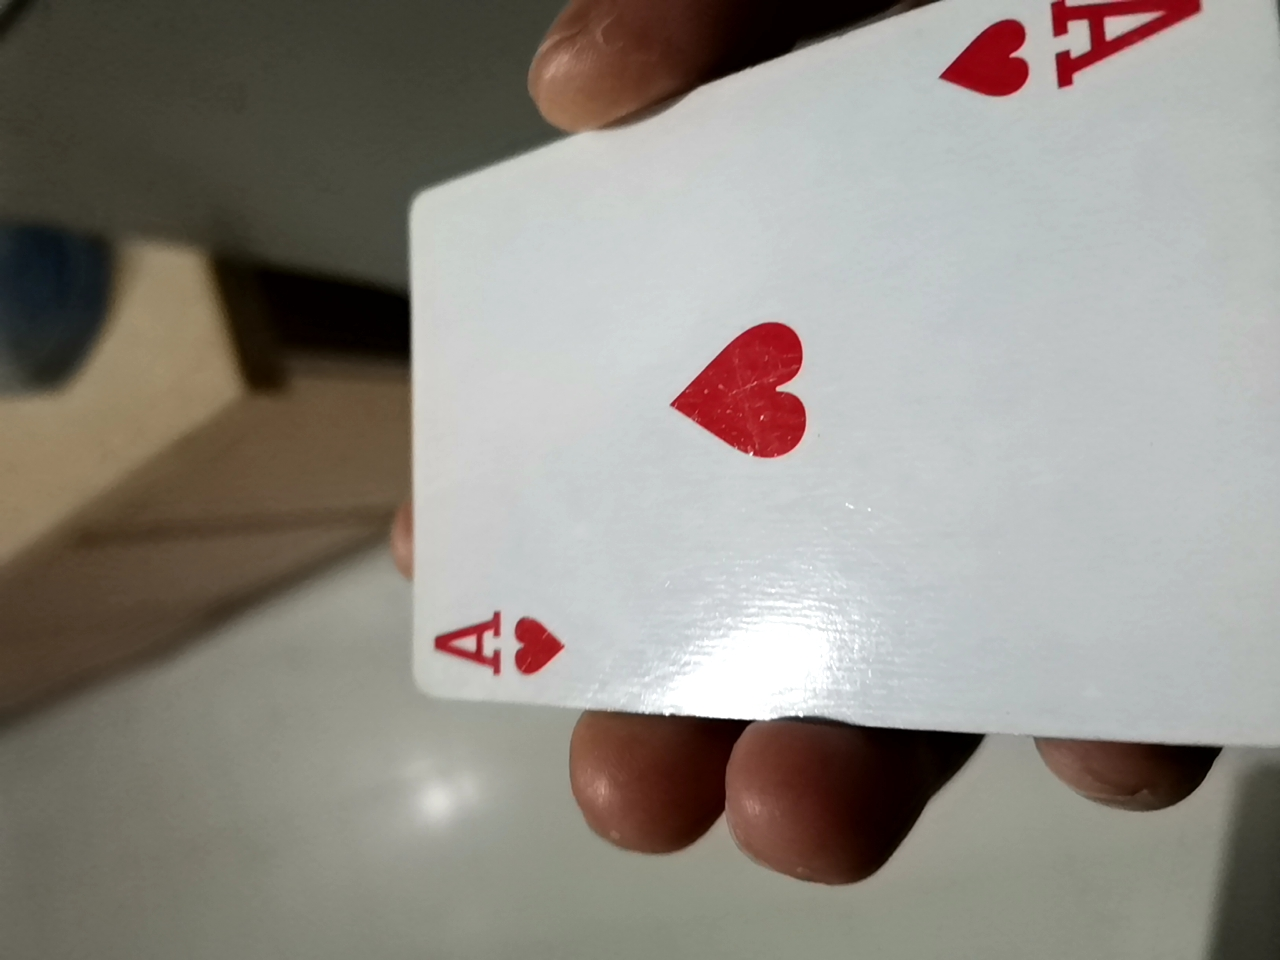hx a: (402, 14, 1270, 832)
